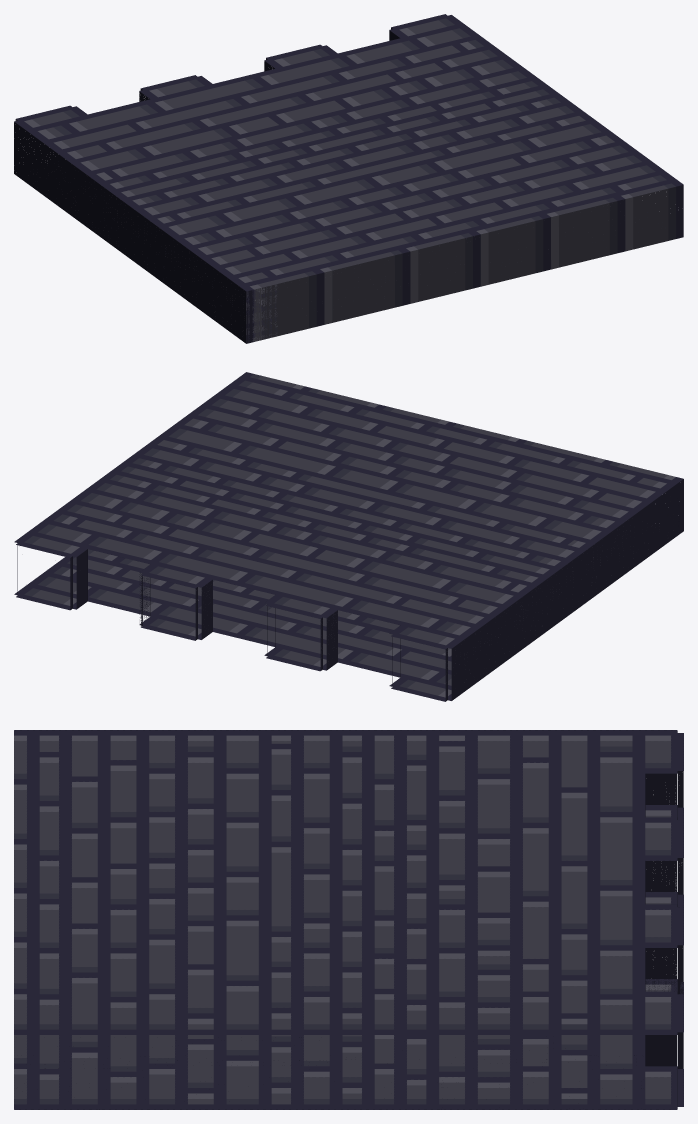
The model's file is stone_wall.fbx.
The picture shows the model from 3 angles, top to bottom: view 1: azimuth 30°, elevation 25°; view 2: azimuth 150°, elevation 25°; view 3: azimuth 270°, elevation 25°; orthographic projection. The views are drawn at different scales.
Visible parts, largest first — view 1: Plane; view 2: Plane; view 3: Plane.
Boxes of the visible parts, box(x1,y1,x2,y2) form: Plane: box(14, 14, 683, 343); Plane: box(14, 372, 683, 701); Plane: box(14, 730, 683, 1109).
Bounding box in the file's own units: 175 × 20 × 163.
1 material, 1 textured.
